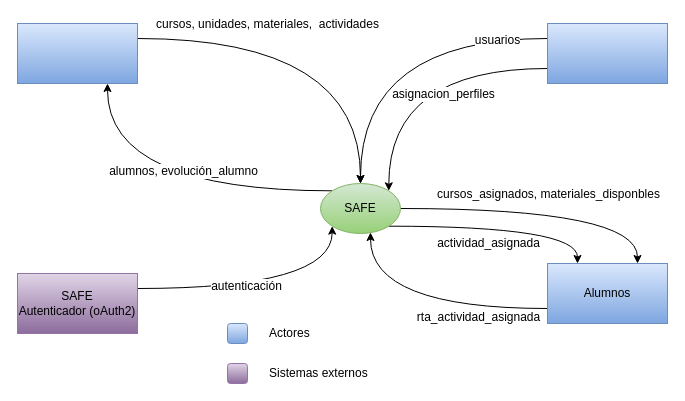
Image size: 685x401. Some labels were removed from this diagram. Here are the shapes that lost their labels. From the top down, the centre of each, then its label:
At point (77, 53): "Docentes".
At point (607, 53): "Administrador".
